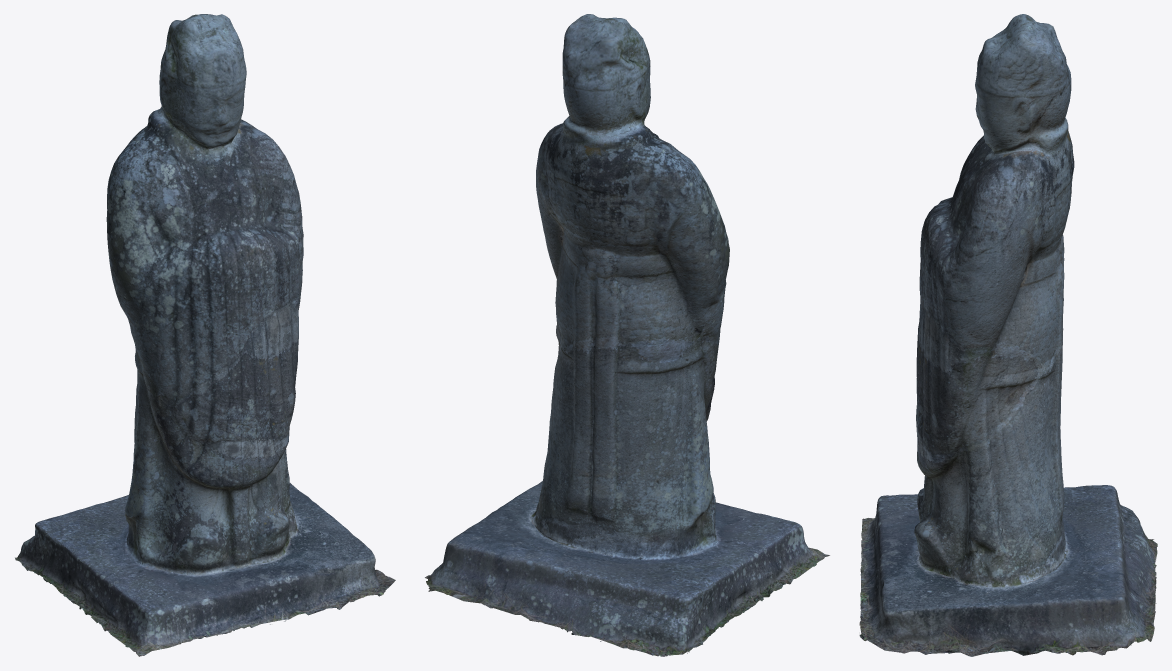
File: 0statue - tomb_of_king_seongdeok_stone_literatus.glb
3 renders of one model, left to right at view 1: azimuth 30°, elevation 25°; view 2: azimuth 150°, elevation 25°; view 3: azimuth 270°, elevation 25°, orthographic. The views are drawn at different scales.
Parts seen in each view (by area): view 1: Object_2; view 2: Object_2; view 3: Object_2.
Boxes of the visible parts, x1,y1,x2,y2 form: Object_2: (15,14,395,656); Object_2: (425,14,829,656); Object_2: (859,14,1157,656).
Bounding box in the file's own units: 1.15 × 2.27 × 1.07.
Materials: 1 (1 with a texture image).
